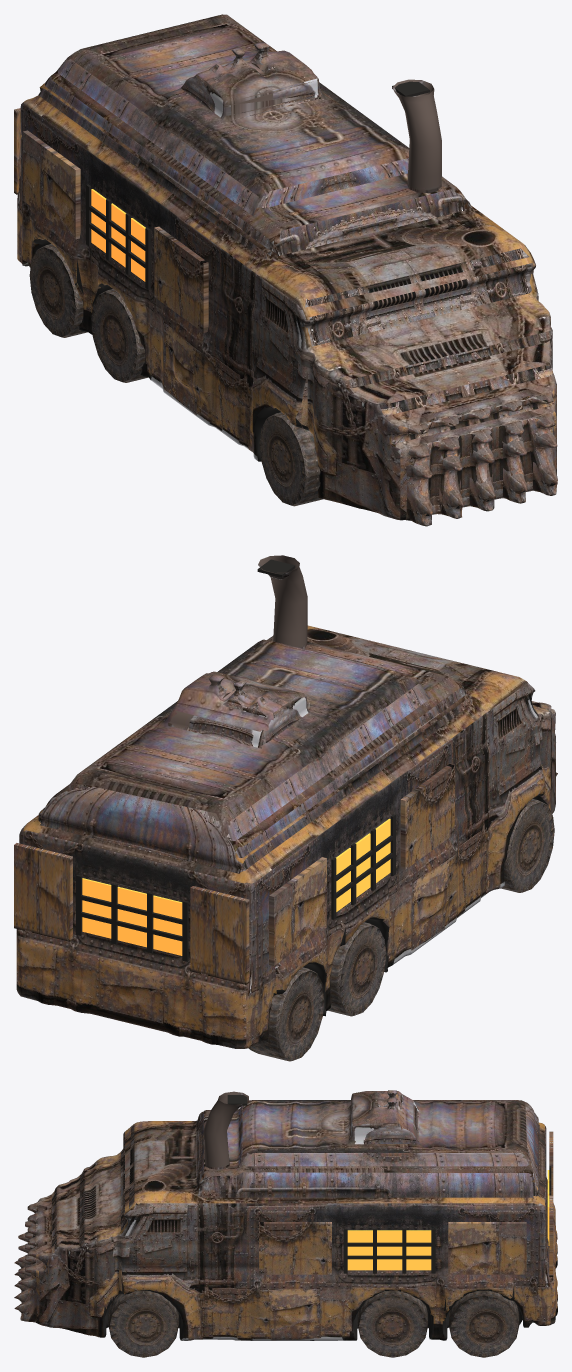
The model's file is old-smoke.glb.
3 renders of one model, top to bottom at view 1: azimuth 30°, elevation 25°; view 2: azimuth 150°, elevation 25°; view 3: azimuth 270°, elevation 25°, orthographic. The views are drawn at different scales.
Visible parts, largest first — view 1: Furnace carved body, Furnace wheel 1 right, Hanging torn furnace plate.001, Furnace side armor.001, Furnace wheel 3 right, Furnace wheel 2 right, Crooked furnace chimney, Flank vent -1 1 ember, Flank vent -1 2 ember, Flank vent -1 3 ember; view 2: Furnace carved body, Furnace torn corner plate.001, Furnace torn corner plate, Hanging torn furnace plate.001, Furnace wheel 3 right, Furnace side armor.001, Furnace wheel 2 right, Furnace wheel 1 right, Crooked furnace chimney, old-smoke-vent-1-glow, old-smoke-vent-2-glow, old-smoke-vent-3-glow (+3 smaller); view 3: Furnace carved body, Hanging torn furnace plate, Furnace wheel 1 left, Furnace side armor, Furnace wheel 3 left, Furnace wheel 2 left, Crooked furnace chimney, Flank vent 1 1 ember, Flank vent 1 2 ember, Flank vent 1 3 ember, Flank door bar.005, Furnace torn corner plate (+1 smaller).
Boxes of the visible parts, x1,y1,x2,y2 form: Furnace carved body: (17, 14, 557, 526); Furnace wheel 1 right: (259, 412, 323, 506); Hanging torn furnace plate.001: (23, 130, 80, 239); Furnace side armor.001: (154, 226, 208, 332); Furnace wheel 3 right: (29, 244, 87, 337); Furnace wheel 2 right: (91, 289, 148, 382); Crooked furnace chimney: (392, 79, 441, 193); Flank vent -1 1 ember: (91, 189, 106, 252); Flank vent -1 2 ember: (111, 203, 126, 267); Flank vent -1 3 ember: (131, 218, 145, 281); Furnace carved body: (16, 625, 557, 1048); Furnace torn corner plate.001: (190, 886, 249, 984); Furnace torn corner plate: (14, 843, 72, 941); Hanging torn furnace plate.001: (269, 857, 326, 965); Furnace wheel 3 right: (248, 967, 324, 1061); Furnace side armor.001: (400, 763, 454, 869); Furnace wheel 2 right: (328, 922, 386, 1016); Furnace wheel 1 right: (501, 799, 554, 892); Crooked furnace chimney: (258, 555, 307, 648); old-smoke-vent-1-glow: (153, 895, 182, 955); old-smoke-vent-2-glow: (117, 886, 146, 947); old-smoke-vent-3-glow: (82, 878, 111, 938); Furnace carved body: (14, 1090, 557, 1340); Hanging torn furnace plate: (448, 1222, 526, 1274); Furnace wheel 1 left: (108, 1290, 178, 1357); Furnace side armor: (259, 1222, 331, 1274); Furnace wheel 3 left: (449, 1290, 519, 1357); Furnace wheel 2 left: (357, 1290, 427, 1357); Crooked furnace chimney: (204, 1091, 248, 1169); Flank vent 1 1 ember: (406, 1230, 431, 1270); Flank vent 1 2 ember: (377, 1230, 402, 1270); Flank vent 1 3 ember: (347, 1230, 372, 1270); Flank door bar.005: (346, 1242, 433, 1246); Furnace torn corner plate: (549, 1195, 553, 1276).
Size of the model in its own units: 2.82 by 3.37 by 6.94.
Materials: 7 (4 with a texture image).
